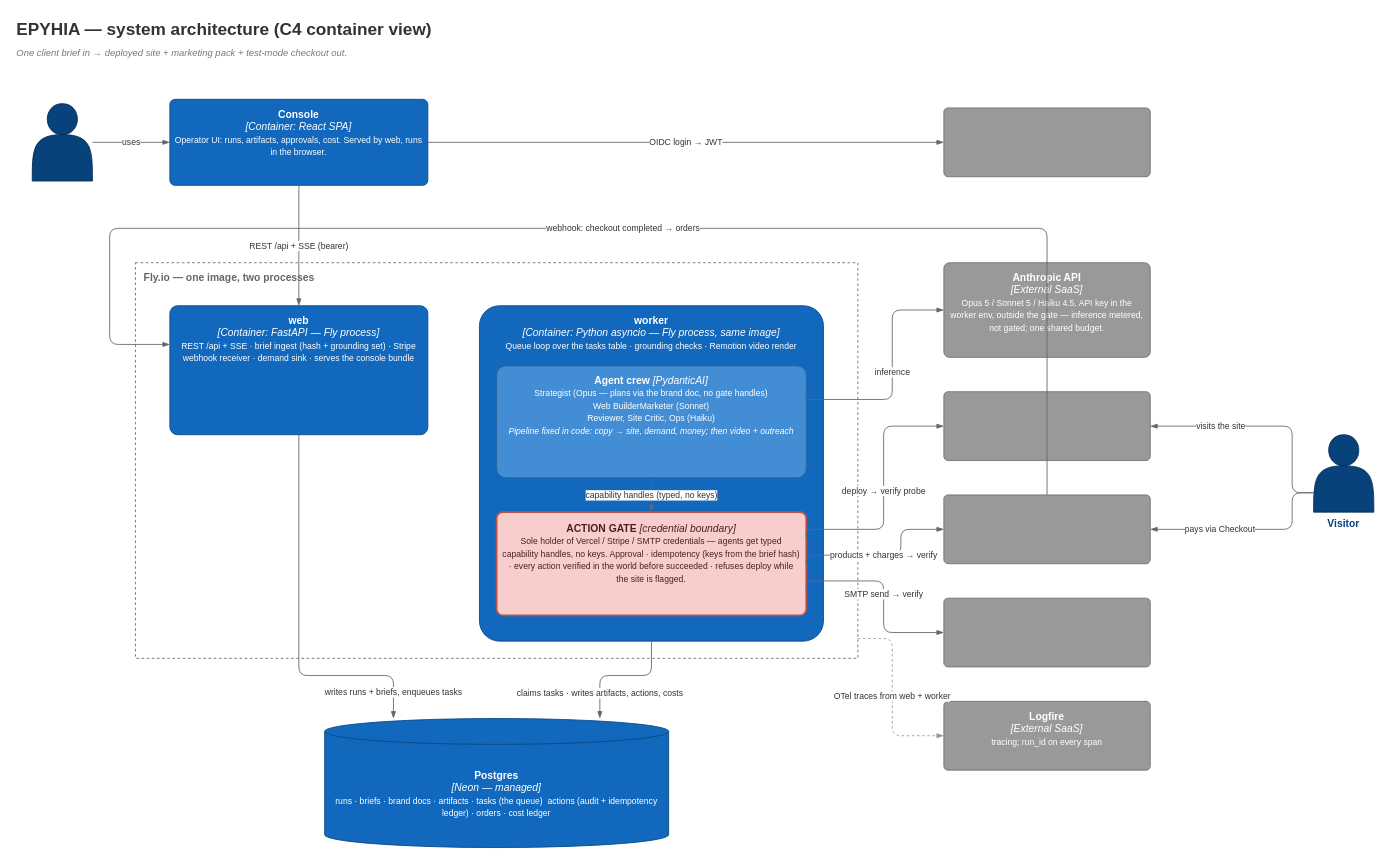
Some shapes in this 1389 by 863 pixel diagram are drawn without their labels. The shapes that lost their labels are listed below. From the top down, each one's centre as x and y in pixels, then its label:
pixel 61 142: Operator
pixel 1046 142: Auth0 [External SaaS] OIDC login for the console
pixel 1046 426: Vercel [External SaaS] hosts the deployed client site
pixel 1046 529: Stripe [External SaaS — test mode] products · Checkout · webhooks
pixel 1046 632: Mailpit [External — separate Fly app] SMTP sink; the launch email lands here
